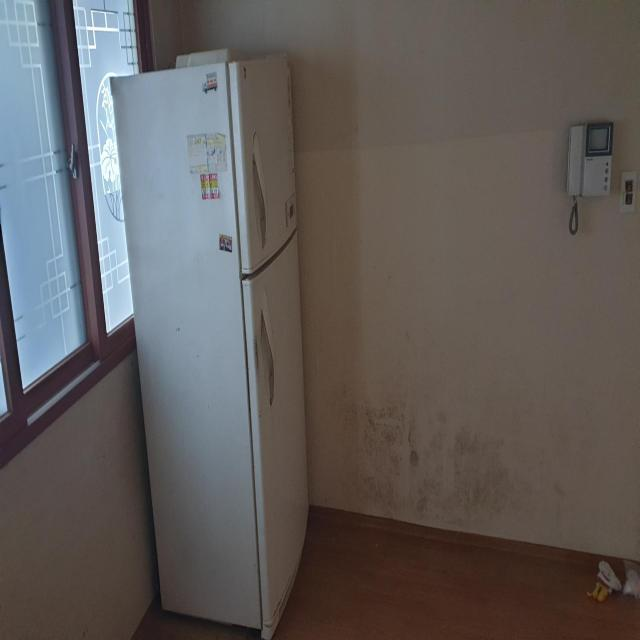refrigerator: (109, 44, 312, 640)
